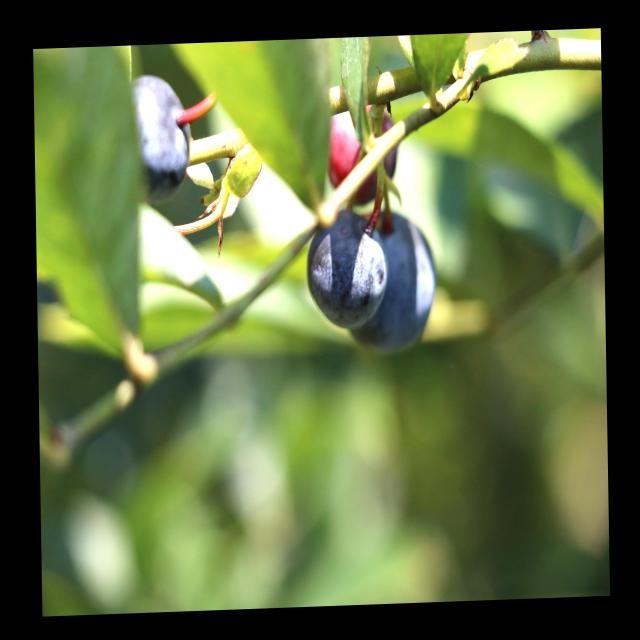blueberry: (342, 198, 444, 360), (303, 202, 391, 336), (124, 67, 199, 213)
blueberry-halfripe: (324, 103, 400, 209)
